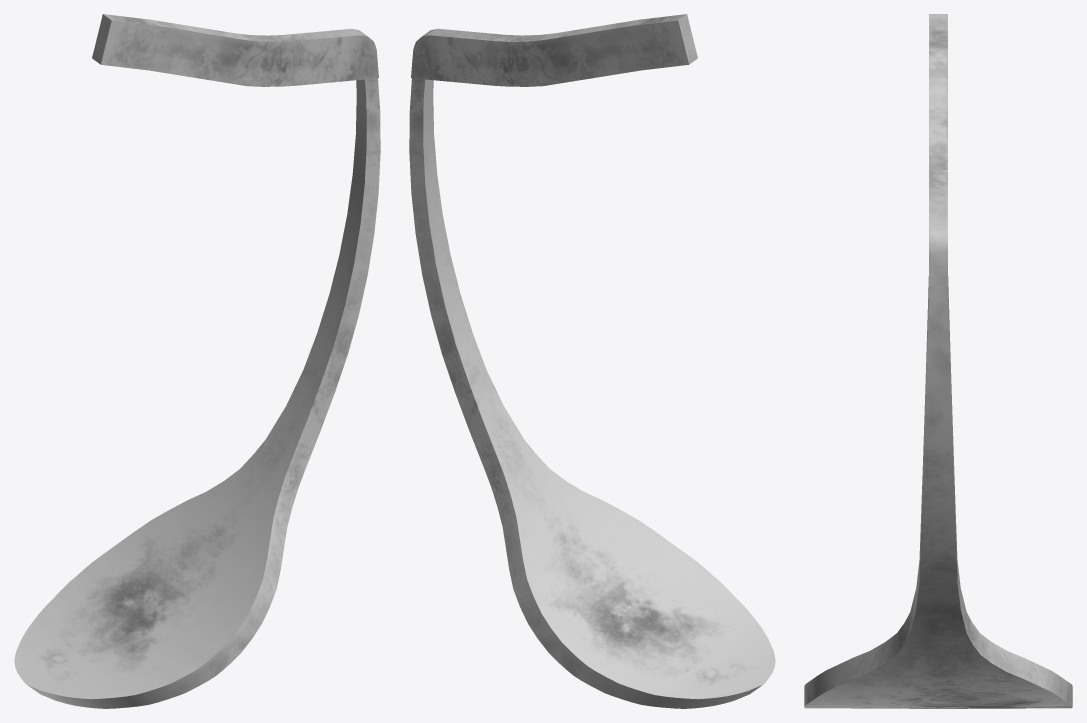
3 views of the same model, side by side, from view 1: azimuth 30°, elevation 25°; view 2: azimuth 150°, elevation 25°; view 3: azimuth 270°, elevation 25° (orthographic). The views are drawn at different scales.
Visible parts, largest first — view 1: f3; view 2: f3; view 3: f3.
Part boxes in pixels (x1=…): f3: x1=14, y1=14, x2=380, y2=708; f3: x1=409, y1=14, x2=775, y2=708; f3: x1=804, y1=14, x2=1072, y2=708.
Size of the model in its own units: 71.3 by 129 by 44.16.
